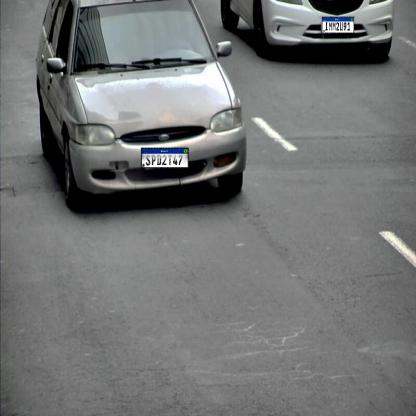PlacaM: (141, 147, 189, 168), (322, 17, 354, 33)
